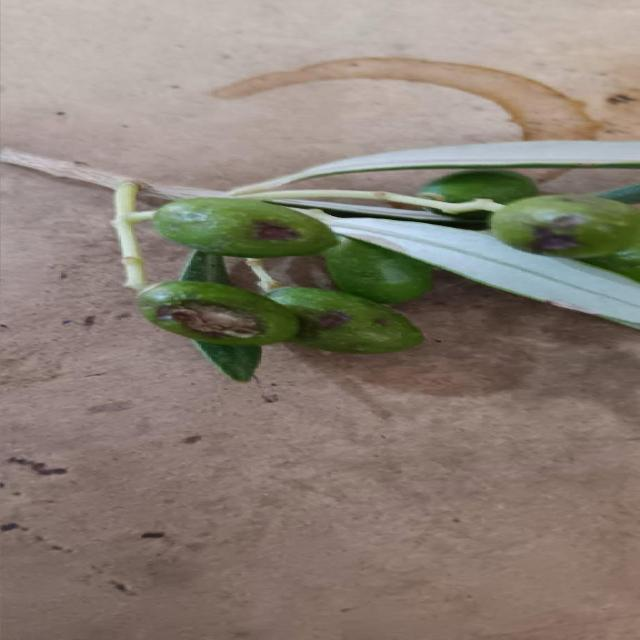Anthracnose: (152, 198, 336, 258), (139, 282, 298, 348), (266, 287, 422, 354), (489, 196, 639, 256)
